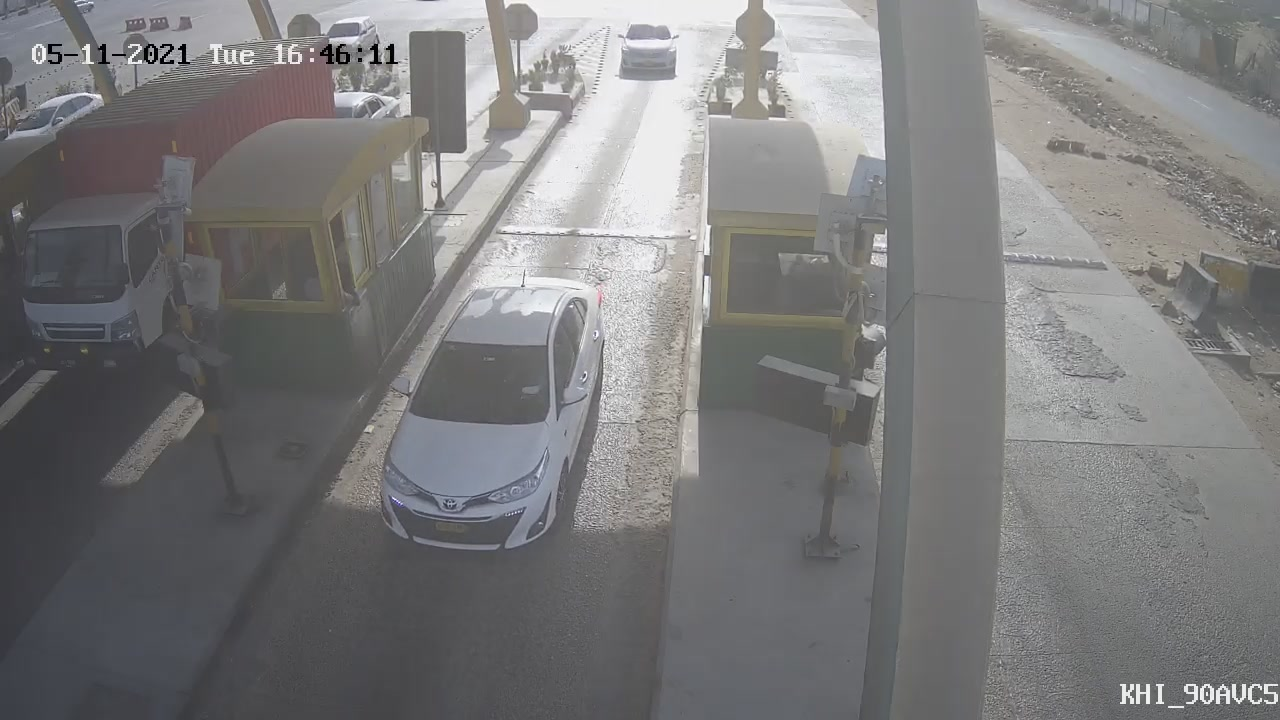F1: (348, 257, 629, 572)
